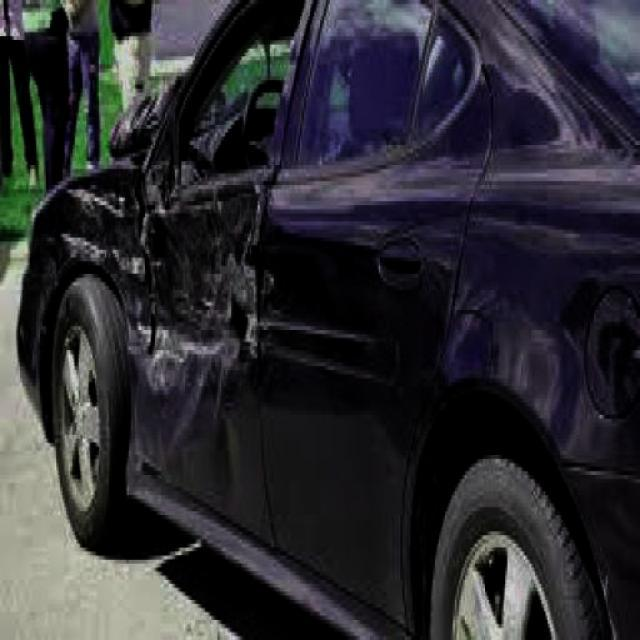car damage: (10, 68, 273, 401)
